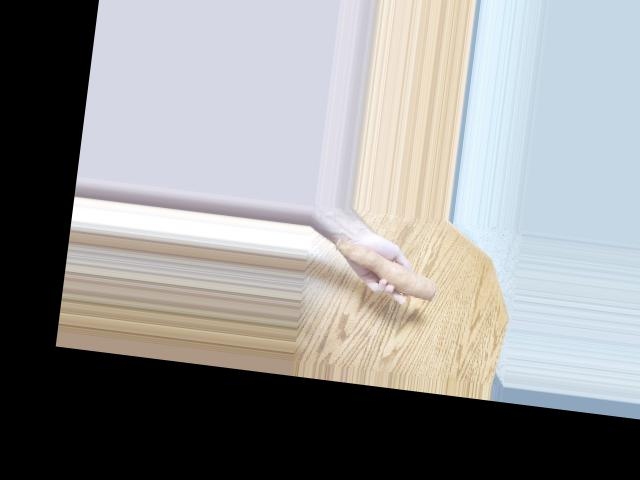sweet_potato: (326, 235, 442, 303)
